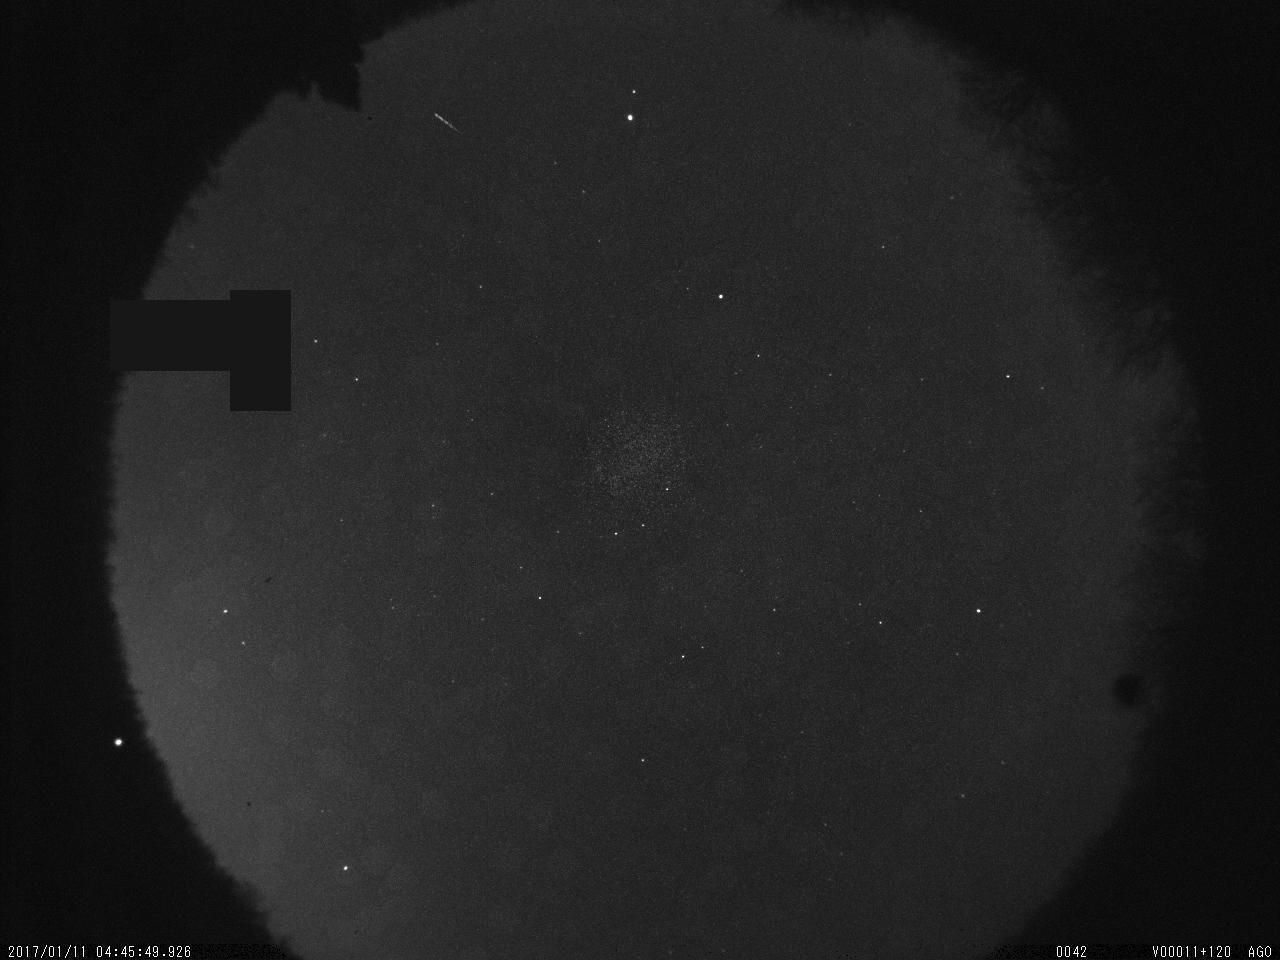Meteor: (431, 108, 463, 133)
